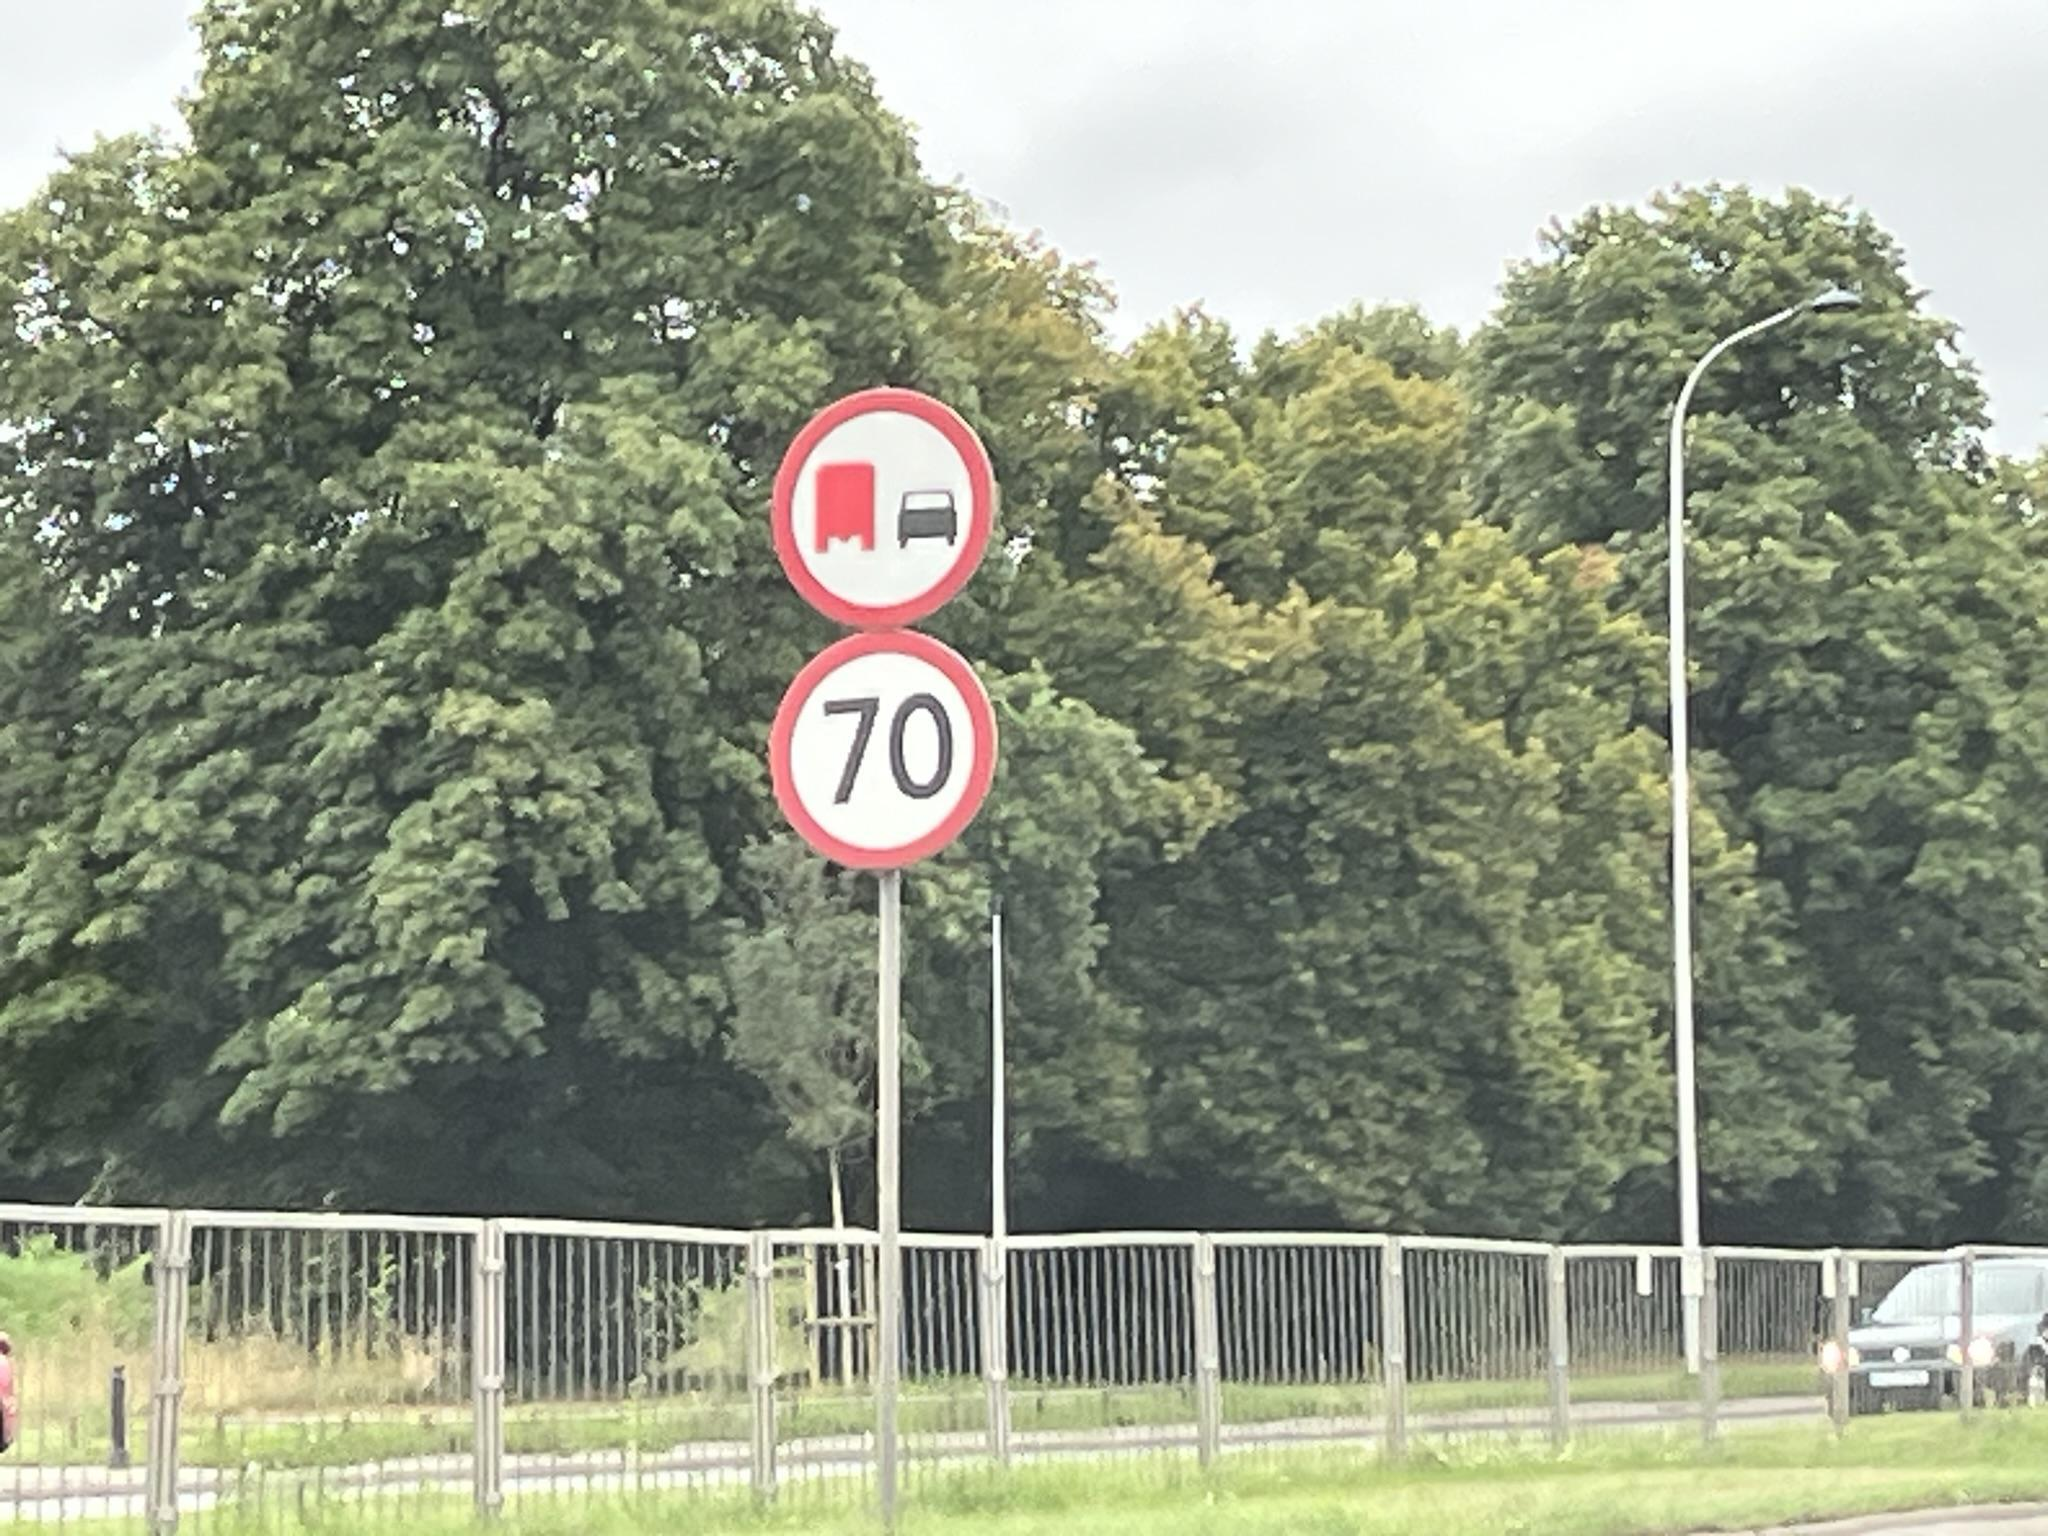prohibitory: (766, 628, 1001, 876), (766, 382, 1000, 632)
